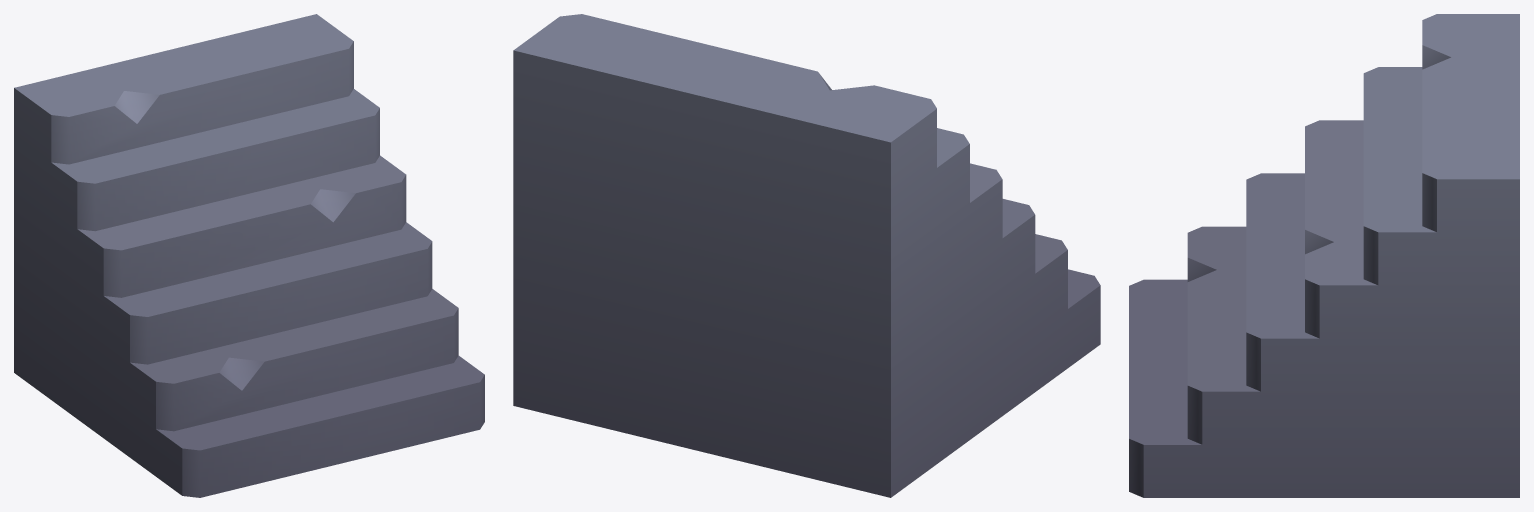
3 renders of one model, left to right at view 1: azimuth 30°, elevation 25°; view 2: azimuth 150°, elevation 25°; view 3: azimuth 270°, elevation 25°, orthographic. The views are drawn at different scales.
Parts seen in each view (by area): view 1: stairs; view 2: stairs; view 3: stairs.
Boxes of the visible parts, x1,y1,x2,y2 form: stairs: (14, 14, 484, 497); stairs: (513, 14, 1100, 497); stairs: (1129, 14, 1519, 497).
Bounding box in the file's own units: 1 × 0.9 × 1.
1 material, 1 textured.
